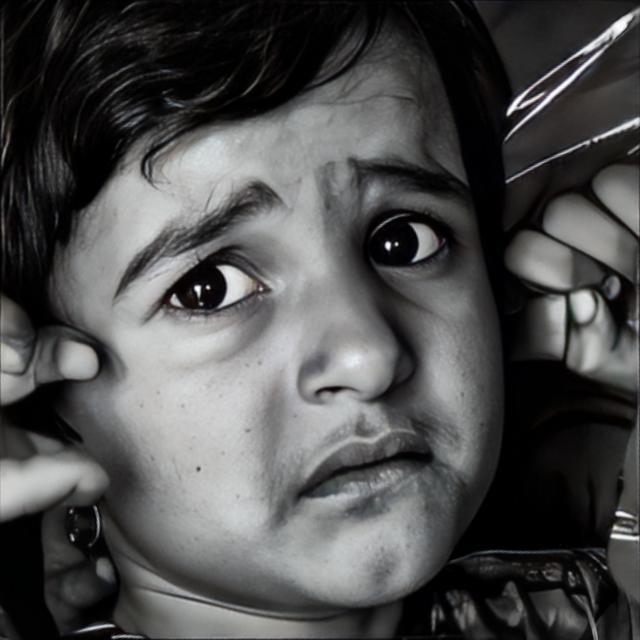sad: (53, 15, 509, 612)
